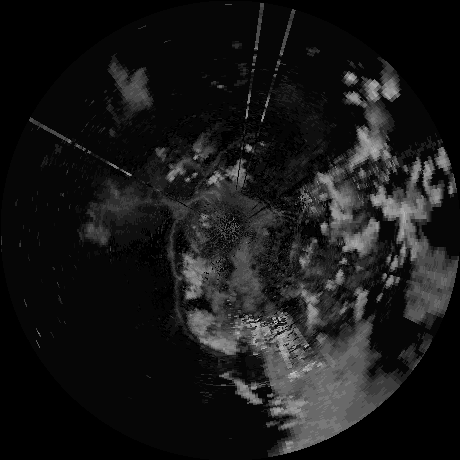frontgust: (173, 279, 197, 345), (194, 151, 230, 193), (166, 219, 183, 282)
